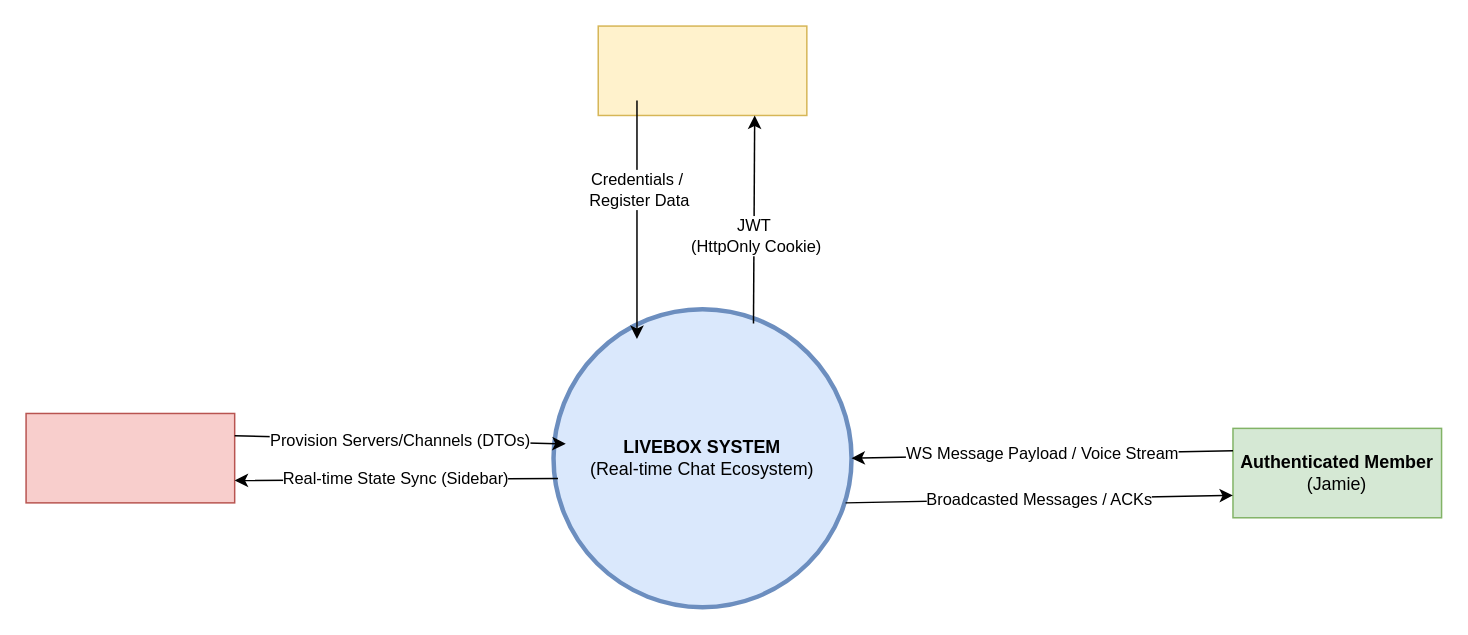
The diagram is 1468 pixels wide and 635 high, and some of its shapes have lost their labels. Each missing label, with the centre of its shape:
Anonymous Visitor (Sam): the point at 702,70
Community Admin (Alex): the point at 130,457
